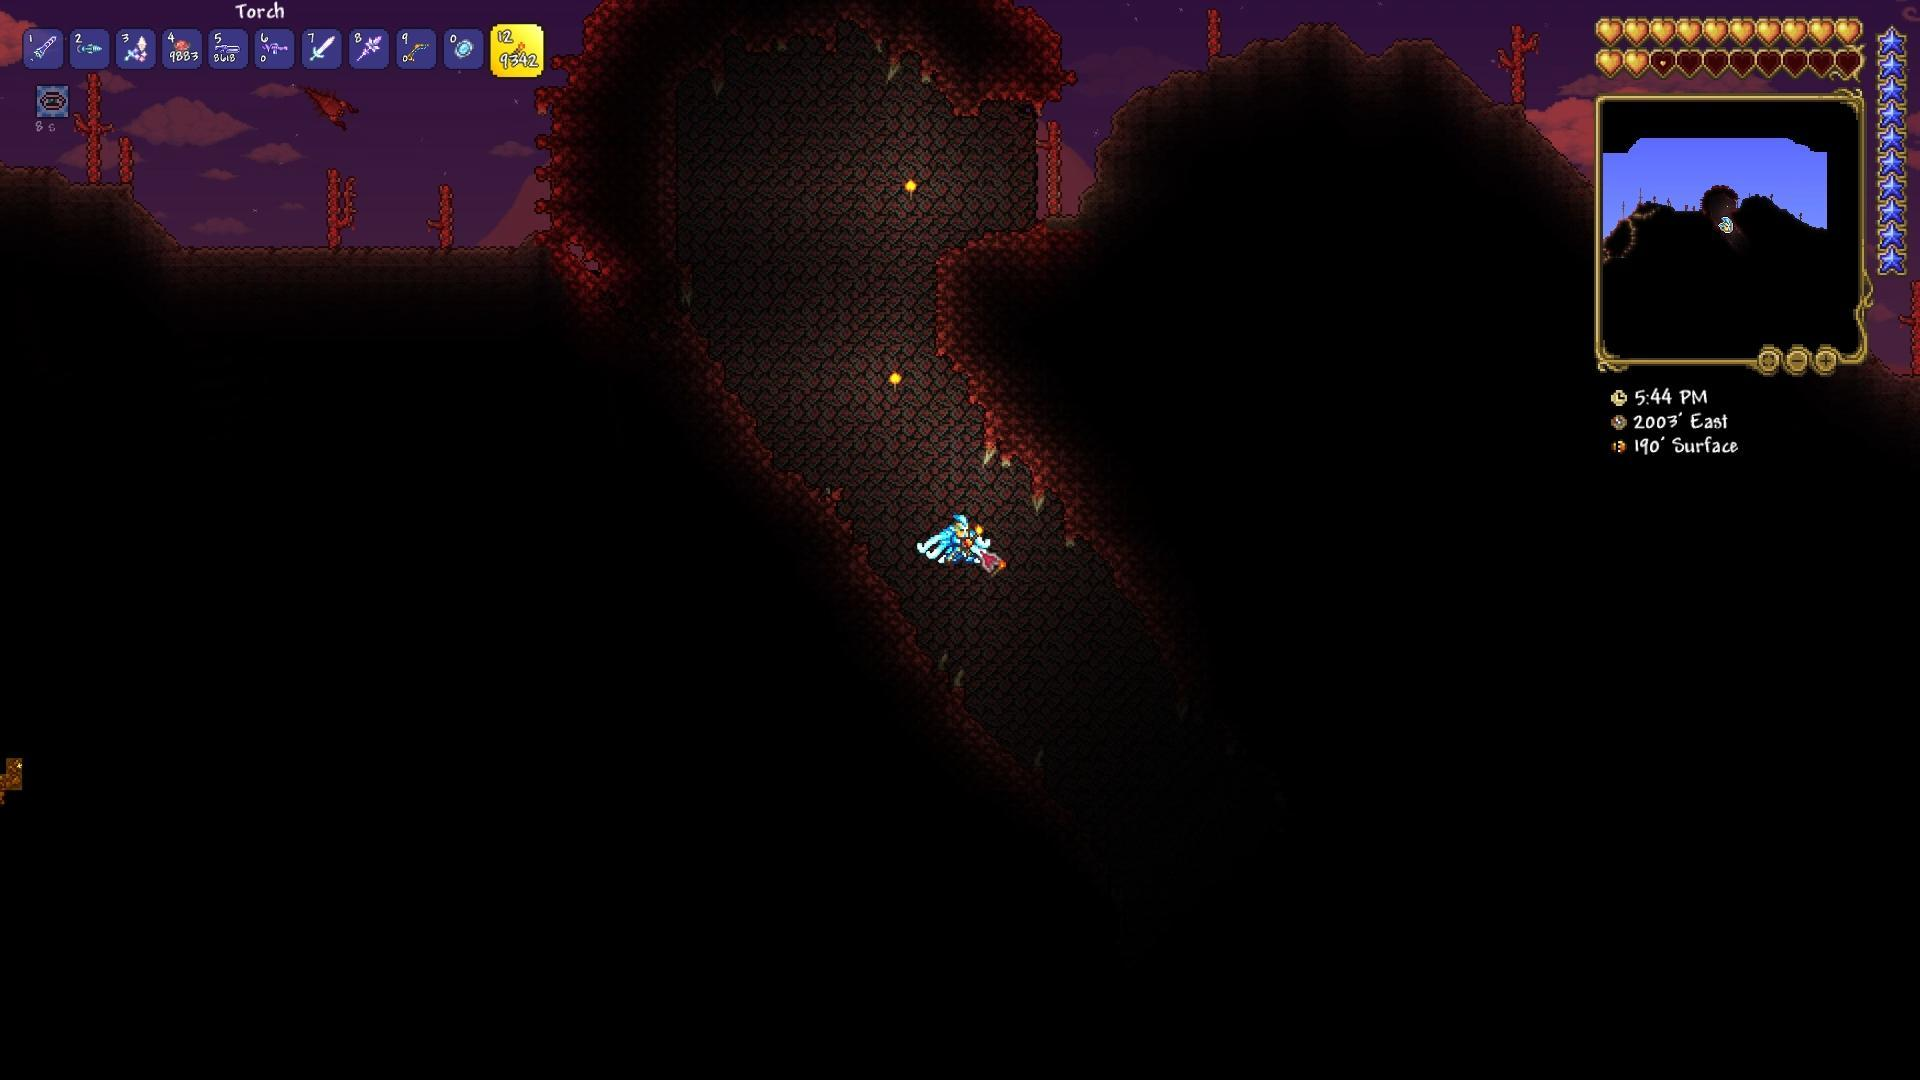crimstone: (564, 236, 615, 277), (1015, 216, 1047, 255), (998, 426, 1022, 463), (538, 90, 566, 115), (939, 327, 963, 356), (939, 255, 957, 291), (972, 381, 992, 413), (964, 240, 994, 258), (1039, 458, 1058, 487), (534, 166, 563, 185), (535, 133, 560, 152), (534, 195, 558, 214)
mirror: (452, 37, 473, 62)
